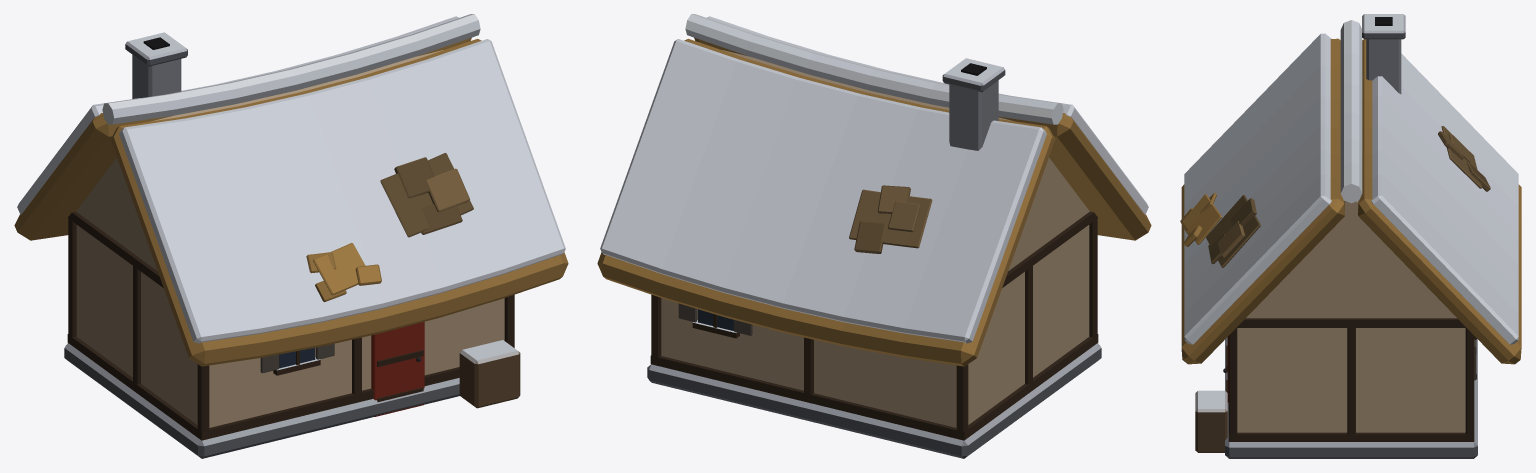
The model's file is village_house_wattle.glb.
3 renders of one model, left to right at view 1: azimuth 30°, elevation 25°; view 2: azimuth 150°, elevation 25°; view 3: azimuth 270°, elevation 25°, orthographic. The views are drawn at different scales.
Visible parts, largest first — view 1: village_house_wattle; view 2: village_house_wattle; view 3: village_house_wattle.
Boxes of the visible parts, left/top/right/bottom form: village_house_wattle: left=14, top=14, right=568, bottom=458; village_house_wattle: left=597, top=14, right=1151, bottom=458; village_house_wattle: left=1180, top=14, right=1521, bottom=458.
Bounding box in the file's own units: 7.4 × 6.47 × 6.33.
